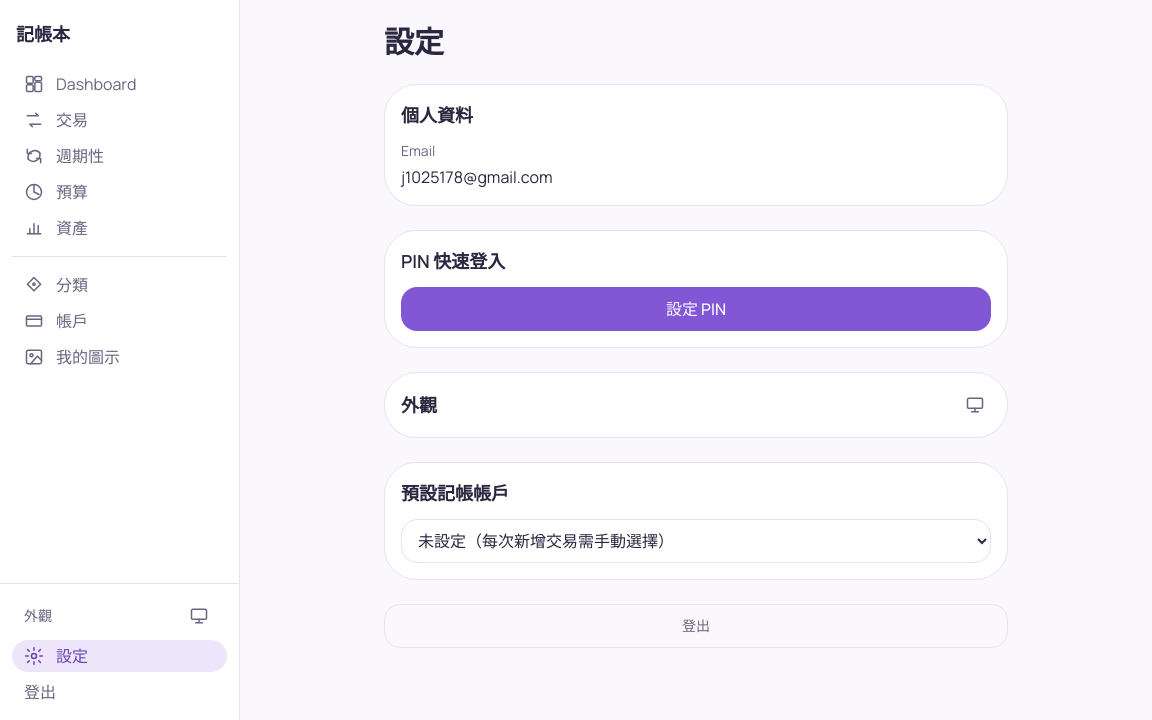
Test: SettingsPage › 未設定 PIN › 點擊「設定 PIN」需先輸入目前密碼，尚未顯示數字鍵盤
The width and height of the screenshot is (1152, 720).
Click the button "設定 PIN" at [696, 309], box [401,287,991,331]
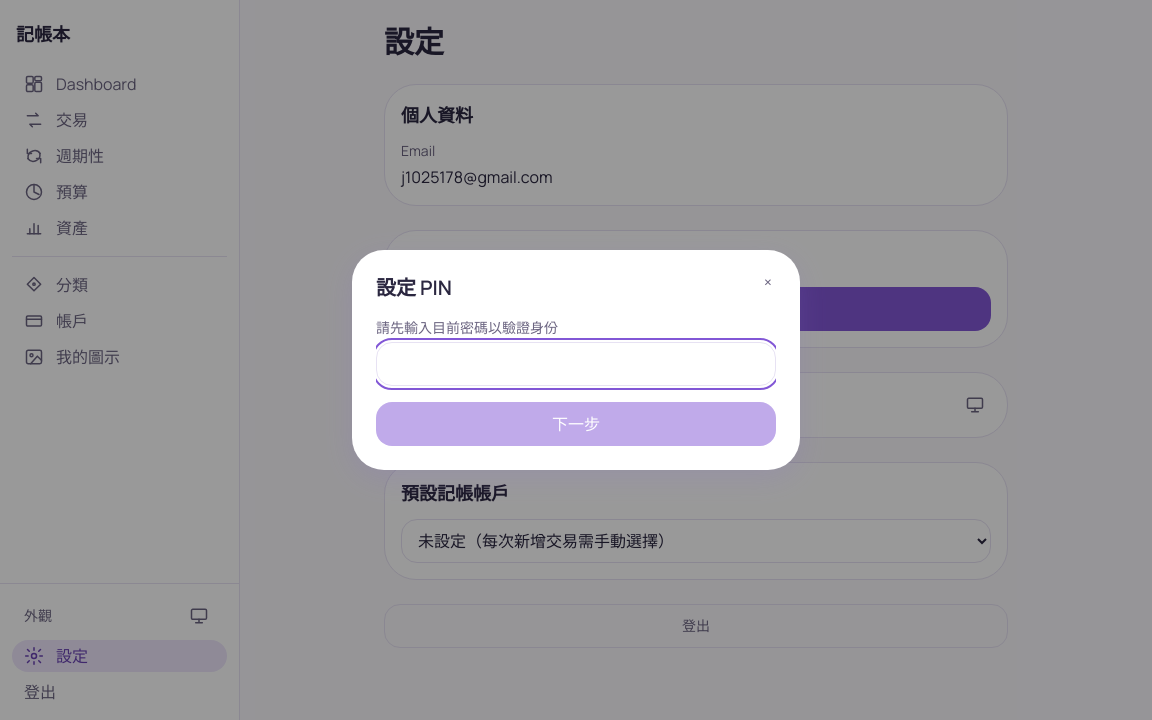
Now the text "請先輸入目前密碼以驗證身份" is shown, box [376,318,558,337]
